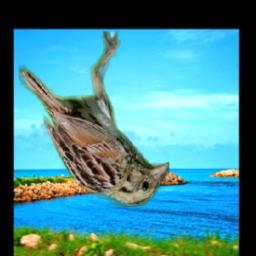Sparrow: (19, 32, 169, 208)
